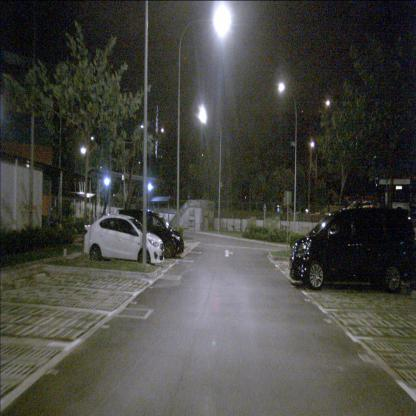vehicle-car: (289, 207, 416, 295), (84, 214, 164, 266), (116, 207, 184, 259), (347, 200, 377, 216)
